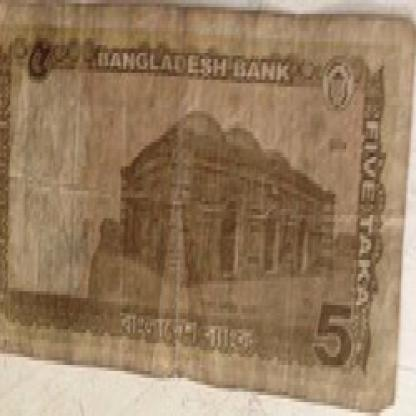Five Taka: (354, 104, 383, 319), (313, 294, 354, 385), (20, 24, 58, 101)
